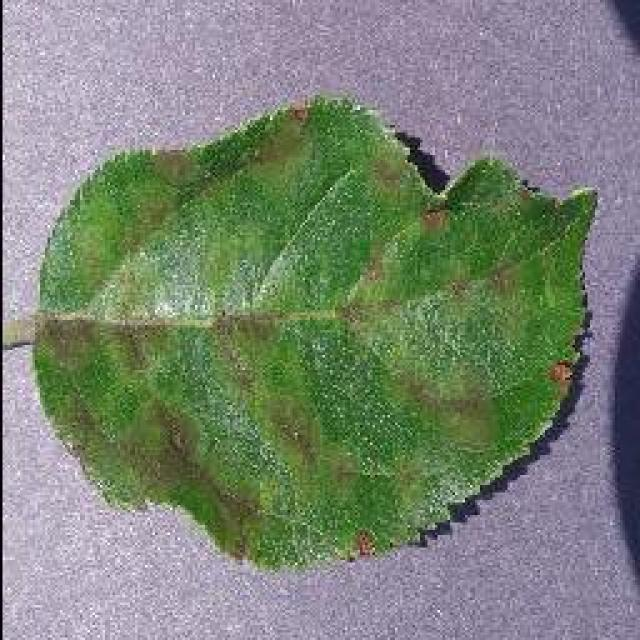apple scab disease: (22, 90, 600, 572)
